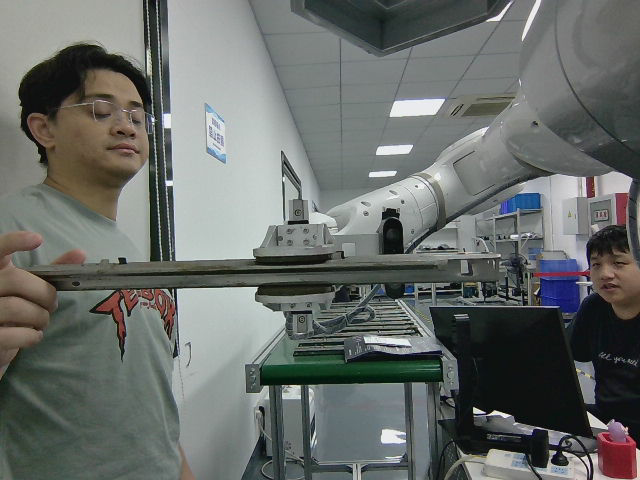up: (51, 249, 501, 293)
